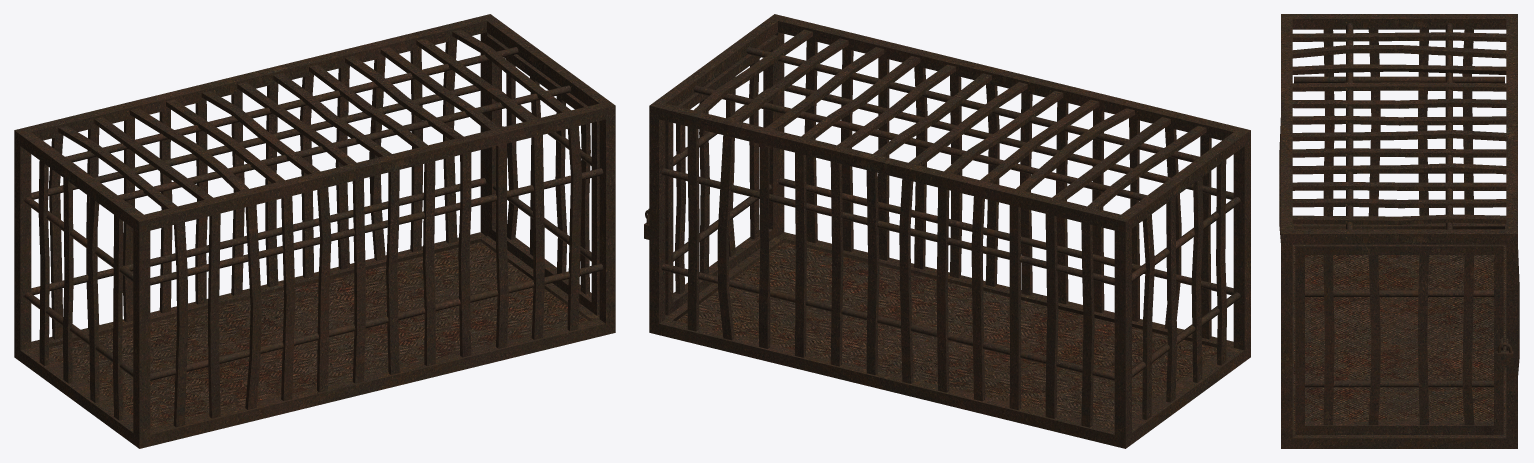
File: cage_mx_1.glb
3 renders of one model, left to right at view 1: azimuth 30°, elevation 25°; view 2: azimuth 150°, elevation 25°; view 3: azimuth 270°, elevation 25°, orthographic. The views are drawn at different scales.
Visible parts, largest first — view 1: cage_mx_1, cage_mx_1_door; view 2: cage_mx_1, cage_mx_1_door; view 3: cage_mx_1, cage_mx_1_door, padlock_mx_1.
Boxes of the visible parts, x1,y1,x2,y2 form: cage_mx_1: (14,14,615,448); cage_mx_1_door: (487,35,599,315); cage_mx_1: (645,14,1250,448); cage_mx_1_door: (648,35,777,315); cage_mx_1: (1279,14,1519,448); cage_mx_1_door: (1295,244,1503,434); padlock_mx_1: (1496,343,1513,366).
Size of the model in its own units: 4.48 by 2.01 by 2.03.
2 materials, 2 textured.
